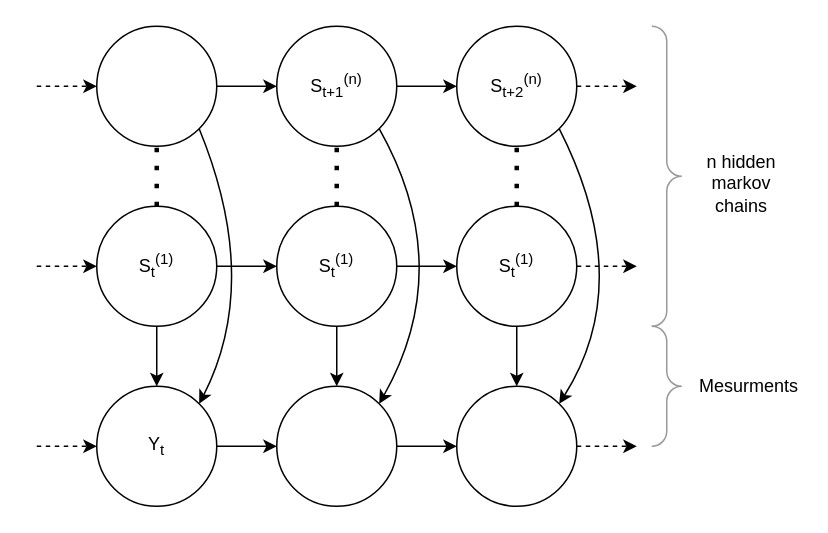
The diagram is 828 pixels wide and 533 high, and some of its shapes have lost their labels. Here are the shapes that lost their labels. From the top down, the centre of each, then its label:
point (156, 85): S t (n)
point (336, 445): Y t+1
point (516, 445): Y t+2
